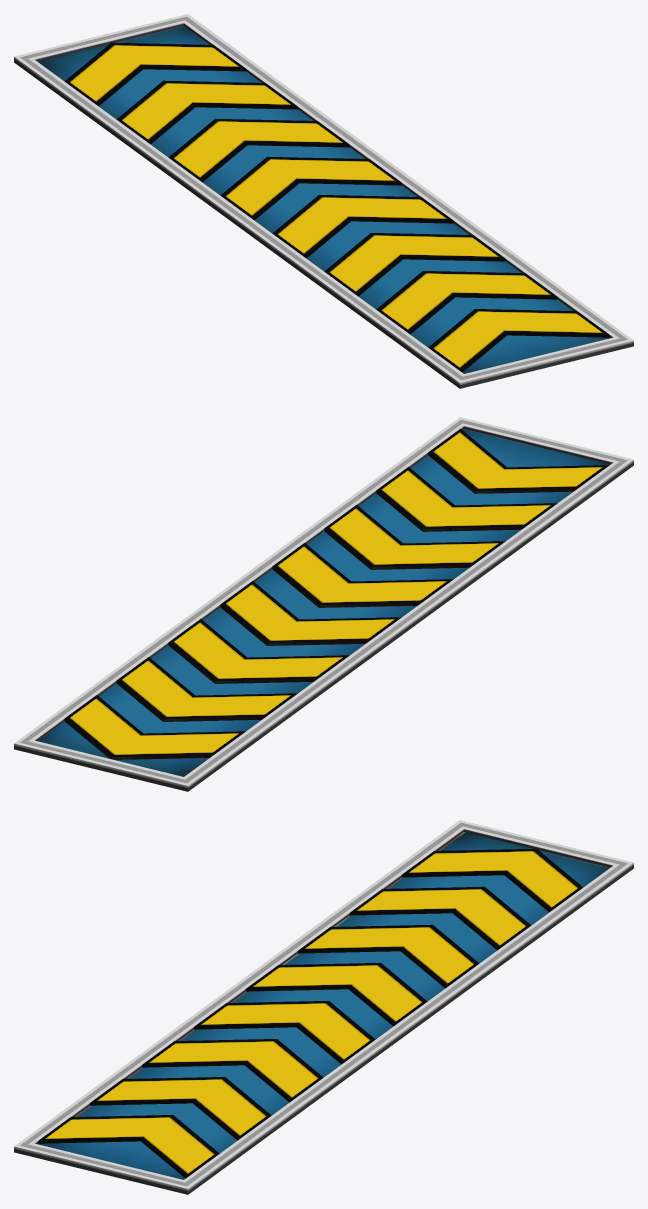
The model's file is AccelBoard02.FBX.
The picture shows the model from 3 angles, top to bottom: view 1: azimuth 30°, elevation 25°; view 2: azimuth 150°, elevation 25°; view 3: azimuth 330°, elevation 25°; orthographic projection.
Parts seen in each view (by area): view 1: AccelBoard02; view 2: AccelBoard02; view 3: AccelBoard02.
Part boxes in pixels (box(x1,y1,x2,y2)): AccelBoard02: box(14, 14, 633, 388); AccelBoard02: box(14, 417, 633, 791); AccelBoard02: box(14, 820, 633, 1194).
Bounding box in the file's own units: 80 × 2.61 × 355.
